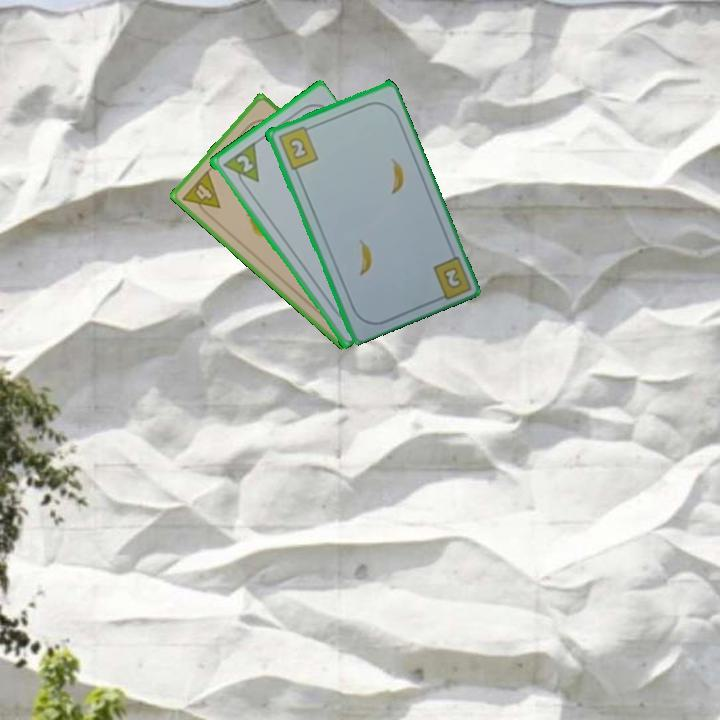2b: (274, 122, 321, 172), (439, 263, 465, 291)
2p: (232, 151, 256, 176)
4p: (179, 166, 223, 221)
